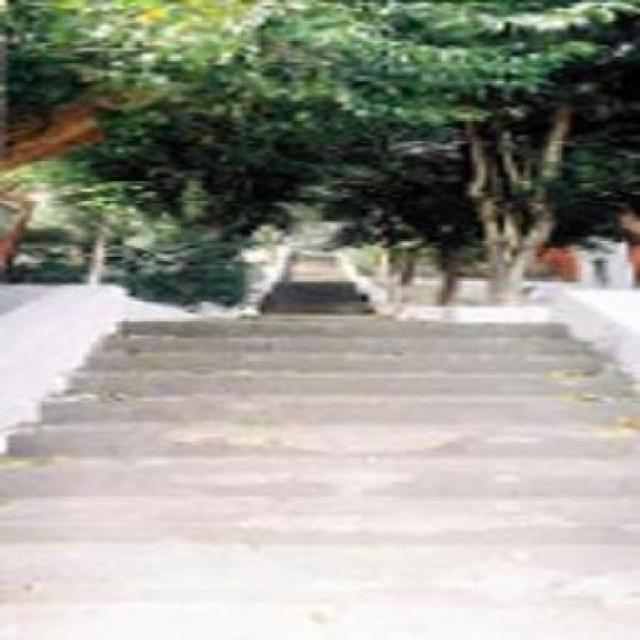stair: (12, 310, 640, 638)
